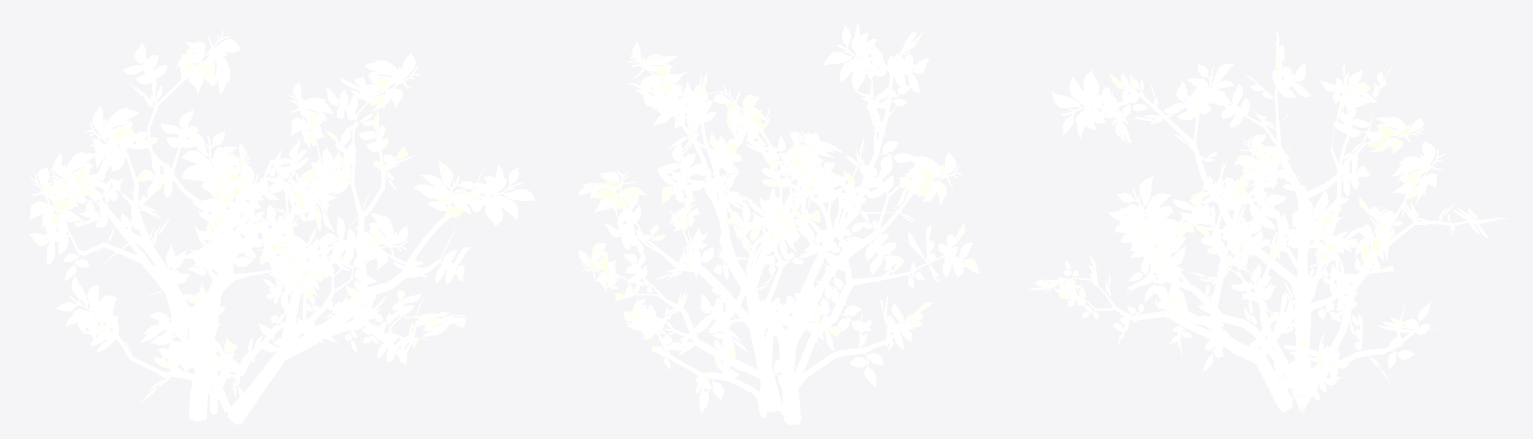
3 views of the same model, side by side, from view 1: azimuth 30°, elevation 25°; view 2: azimuth 150°, elevation 25°; view 3: azimuth 270°, elevation 25° (orthographic). The views are drawn at different scales.
Parts seen in each view (by area): view 1: SM_Berry_Bush_Empty_01_LOD0; view 2: SM_Berry_Bush_Empty_01_LOD0; view 3: SM_Berry_Bush_Empty_01_LOD0.
Part boxes in pixels (x1=…): SM_Berry_Bush_Empty_01_LOD0: x1=29, y1=30, x2=534, y2=424; SM_Berry_Bush_Empty_01_LOD0: x1=578, y1=23, x2=979, y2=424; SM_Berry_Bush_Empty_01_LOD0: x1=1029, y1=29, x2=1506, y2=415.
Bounding box in the file's own units: 1.57 × 1.34 × 1.69.
1 material, 1 textured.
